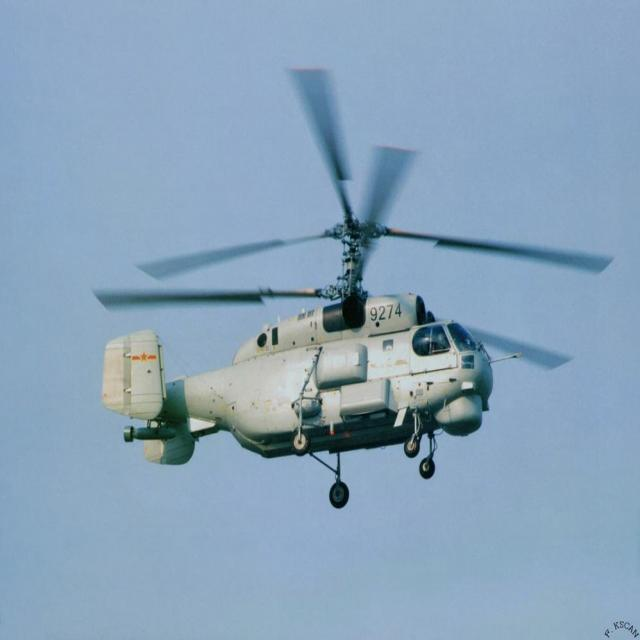MIL_HELO: (56, 64, 631, 512)
